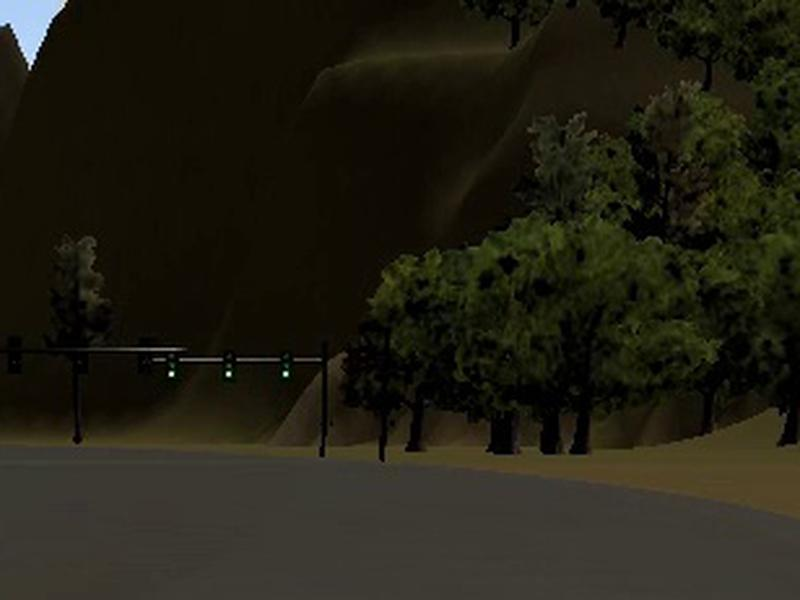Green: (280, 351, 293, 379), (166, 351, 179, 379), (223, 351, 234, 378)
